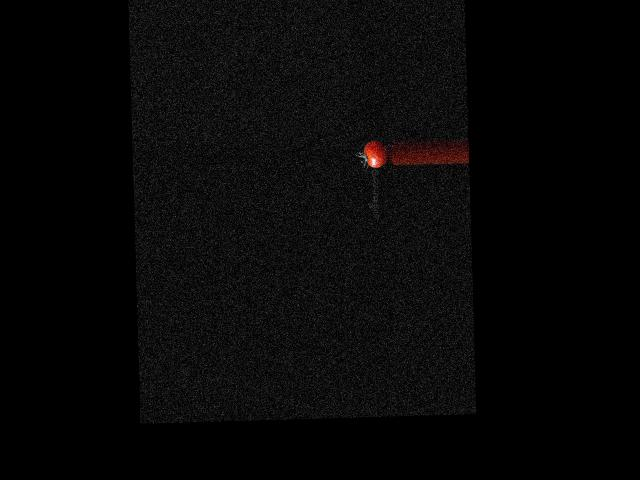tomato: (363, 140, 387, 168)
